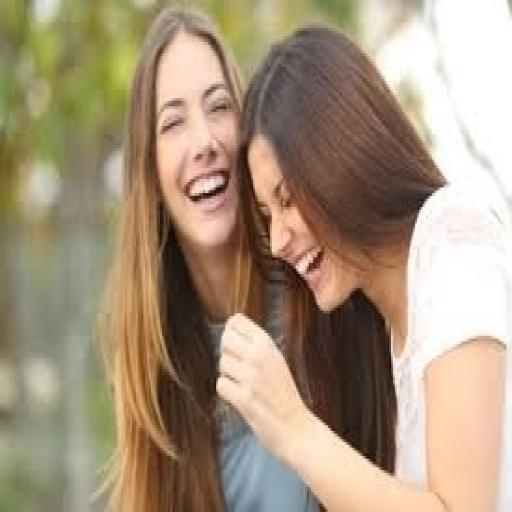laughing: (90, 3, 508, 509)
